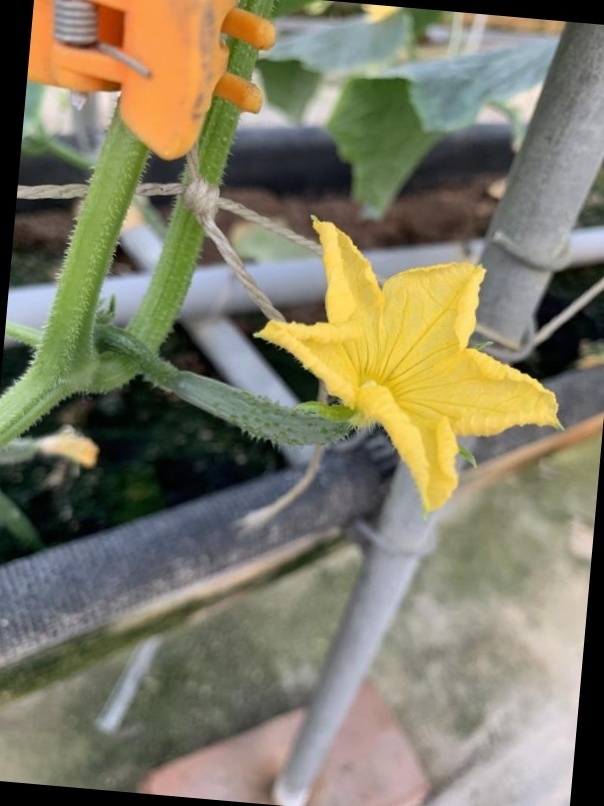flowering: (129, 217, 547, 486)
